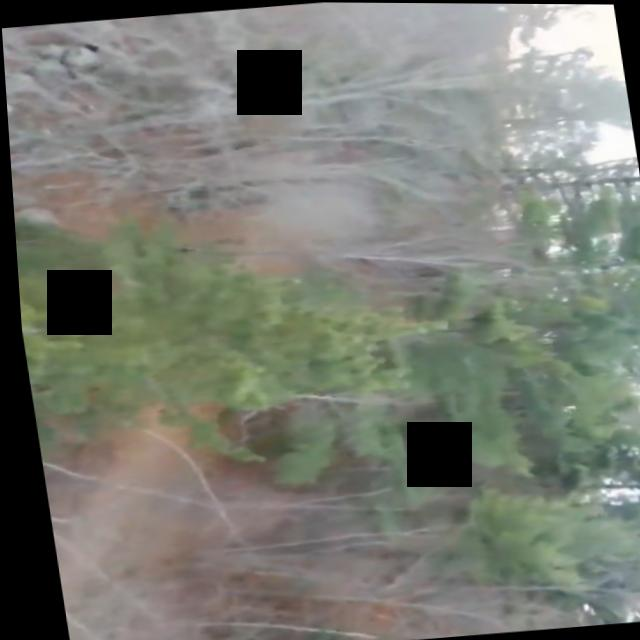Tree: (10, 190, 449, 449), (0, 0, 496, 223), (409, 187, 640, 388), (399, 473, 624, 585)
